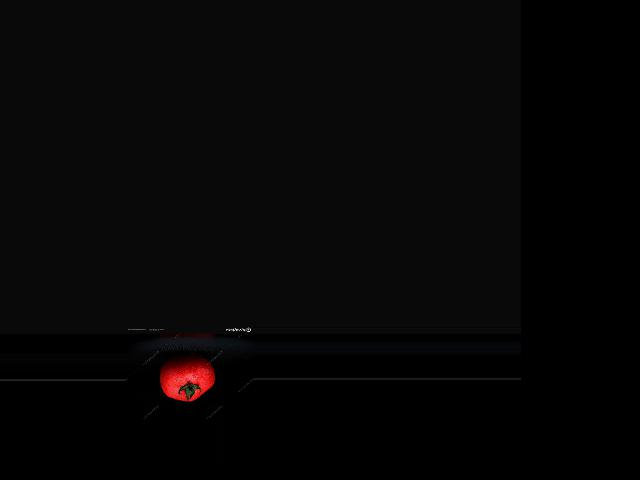tomato: (158, 353, 215, 402)
